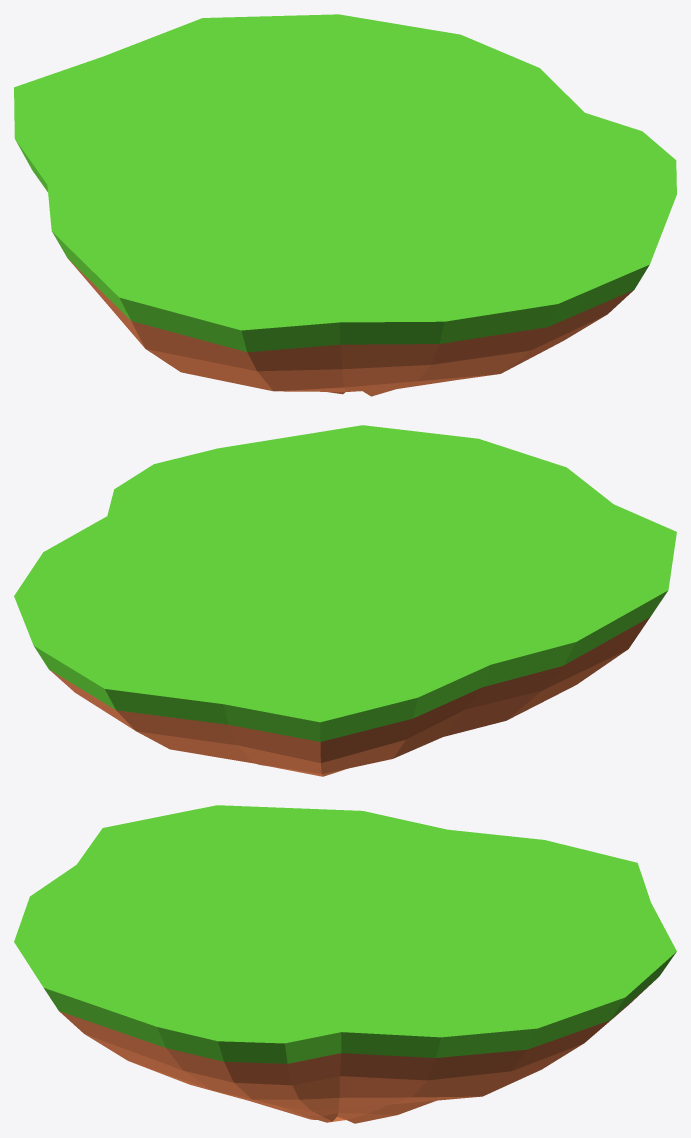
File: Island3.fbx
3 views of the same model, one above another, from view 1: azimuth 30°, elevation 25°; view 2: azimuth 150°, elevation 25°; view 3: azimuth 270°, elevation 25° (orthographic). The views are drawn at different scales.
Visible parts, largest first — view 1: Island 3; view 2: Island 3; view 3: Island 3.
Part boxes in pixels (box(x1,y1,x2,y2)): Island 3: box(14, 14, 676, 396); Island 3: box(14, 425, 676, 776); Island 3: box(14, 805, 676, 1123).
Bounding box in the file's own units: 2109 × 765 × 2474.
